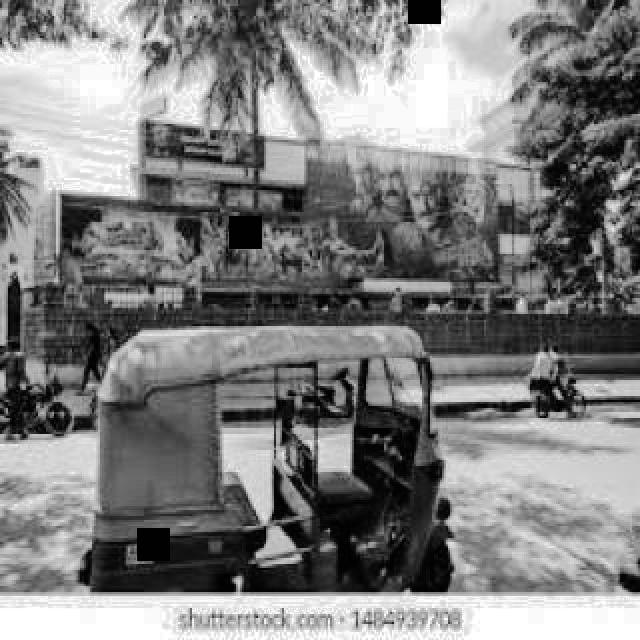Auto-Rickshaw: (68, 316, 478, 592)
